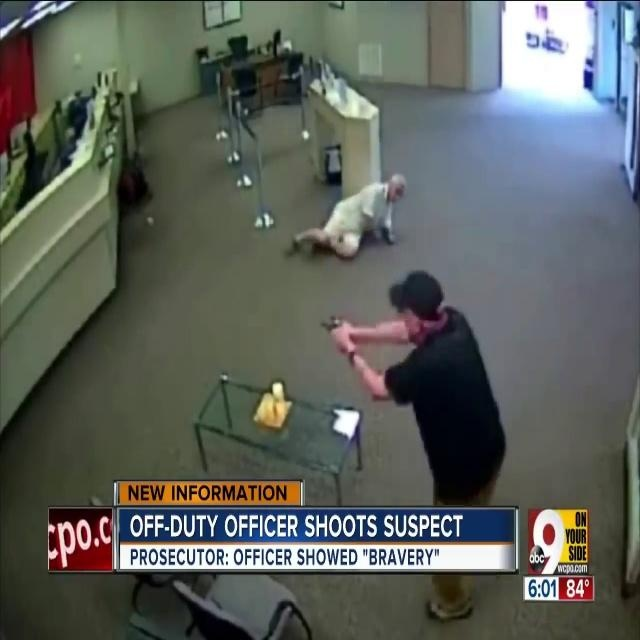gun: (314, 309, 353, 338)
